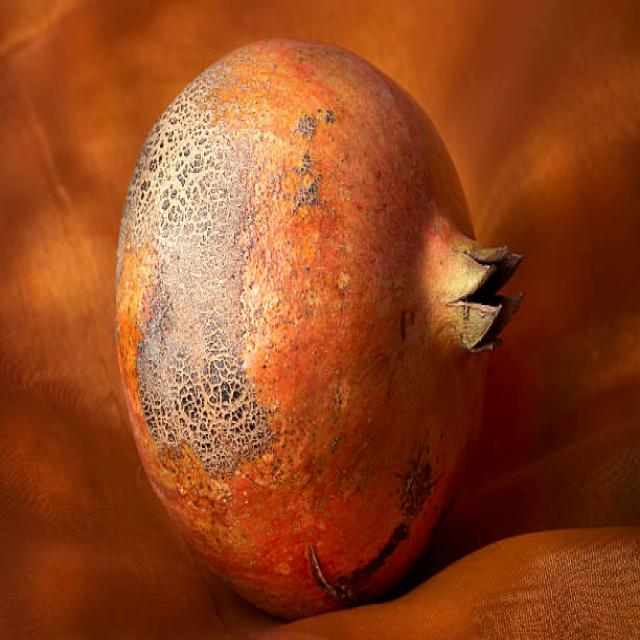overripe: (109, 33, 528, 626)
